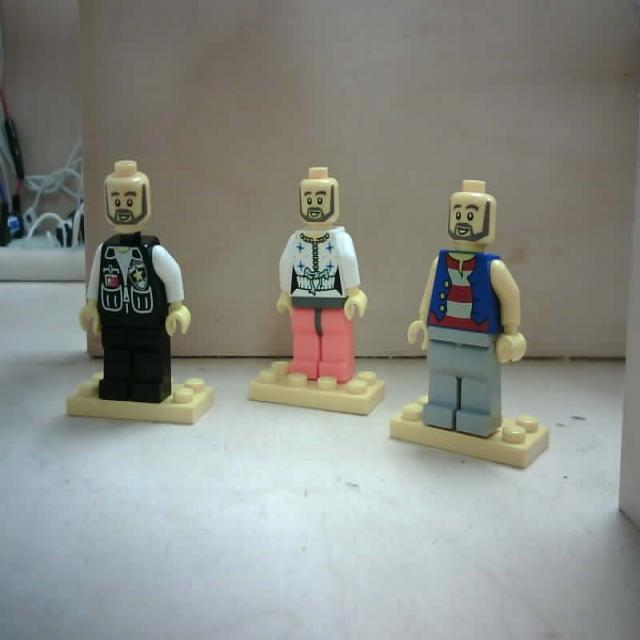Lego-People: (389, 180, 550, 473), (63, 160, 217, 428), (250, 167, 390, 417)
